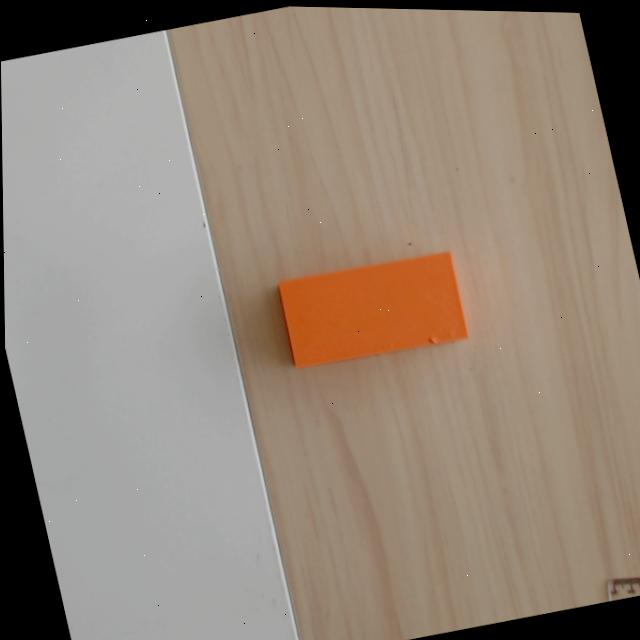Balok-Jingga-1005025: (276, 249, 469, 367)
